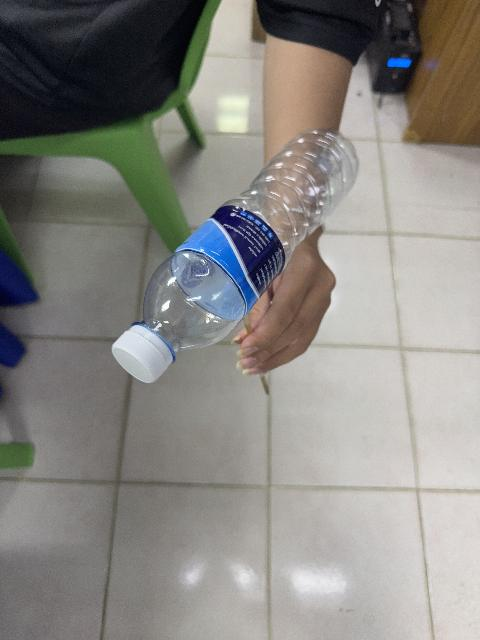bottle: (112, 130, 356, 382)
